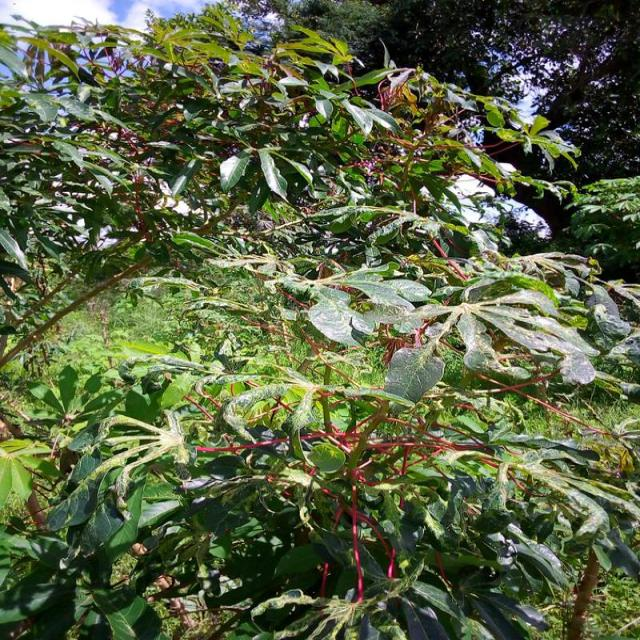cassava leaf: (0, 3, 638, 638), (382, 344, 445, 406)
